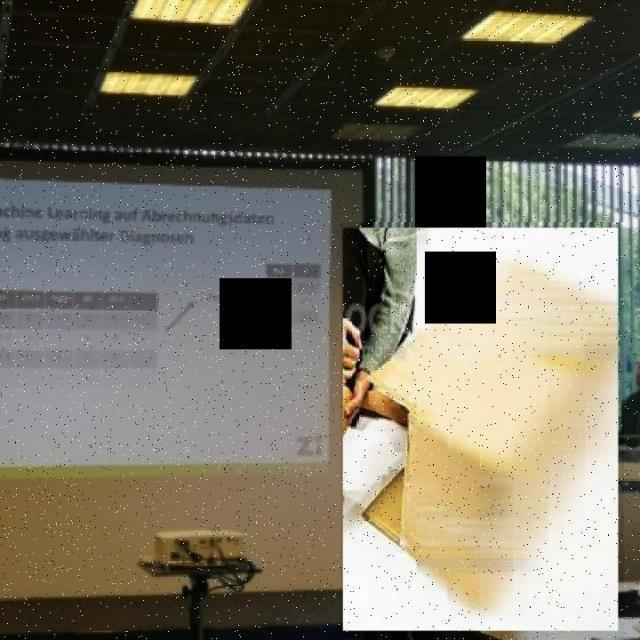box: (340, 222, 626, 638)
